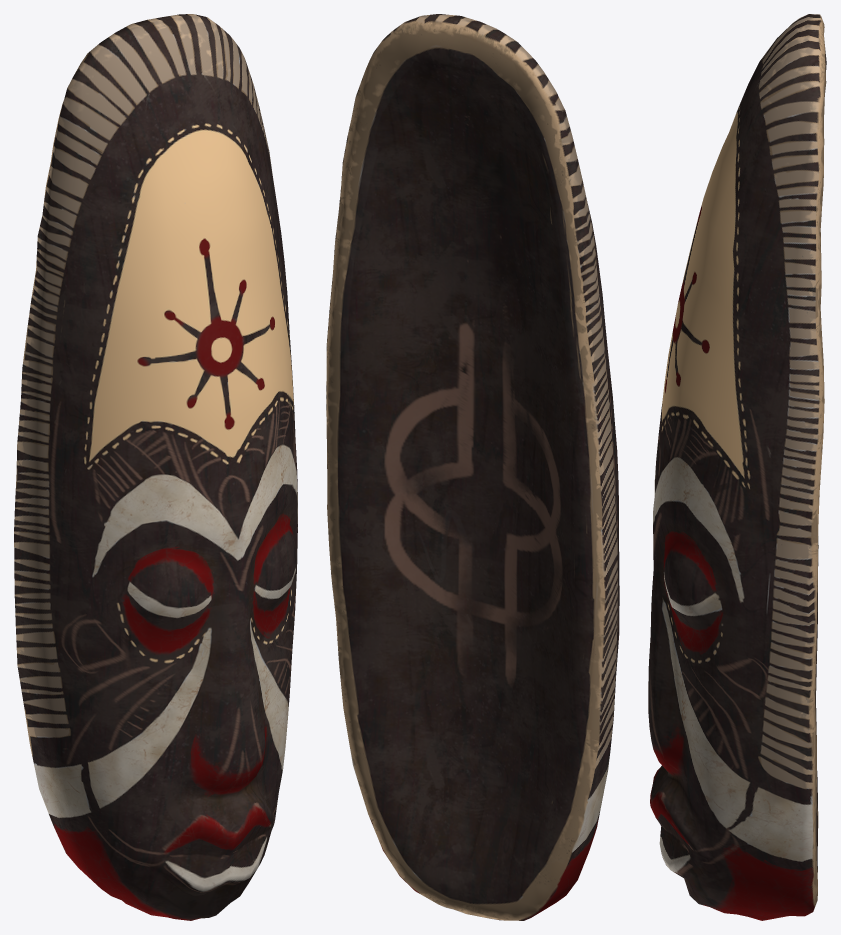
File: asset_-_african_mask (1).glb
3 renders of one model, left to right at view 1: azimuth 30°, elevation 25°; view 2: azimuth 150°, elevation 25°; view 3: azimuth 270°, elevation 25°, orthographic. The views are drawn at different scales.
Parts seen in each view (by area): view 1: Masque_Low; view 2: Masque_Low; view 3: Masque_Low.
Part boxes in pixels (bbox=[...]): Masque_Low: bbox=[14, 14, 297, 920]; Masque_Low: bbox=[326, 14, 619, 920]; Masque_Low: bbox=[648, 14, 826, 920].
Size of the model in its own units: 35.63 by 108 by 19.91.
1 material, 1 textured.
